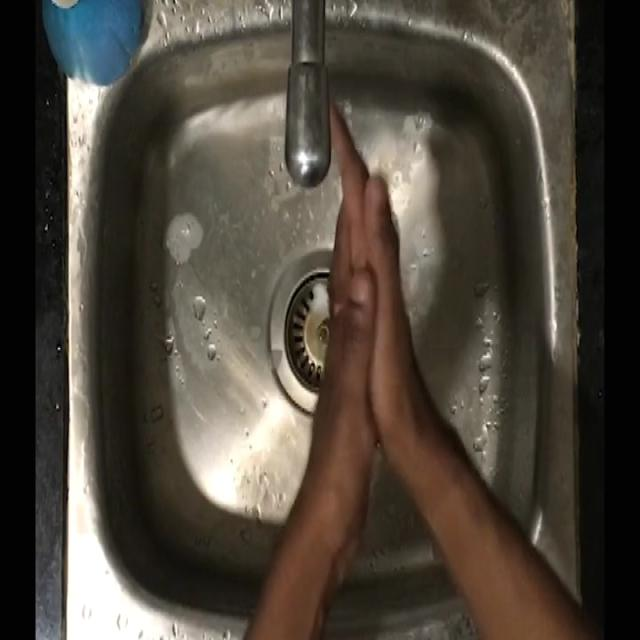step_1: (300, 112, 422, 488)
